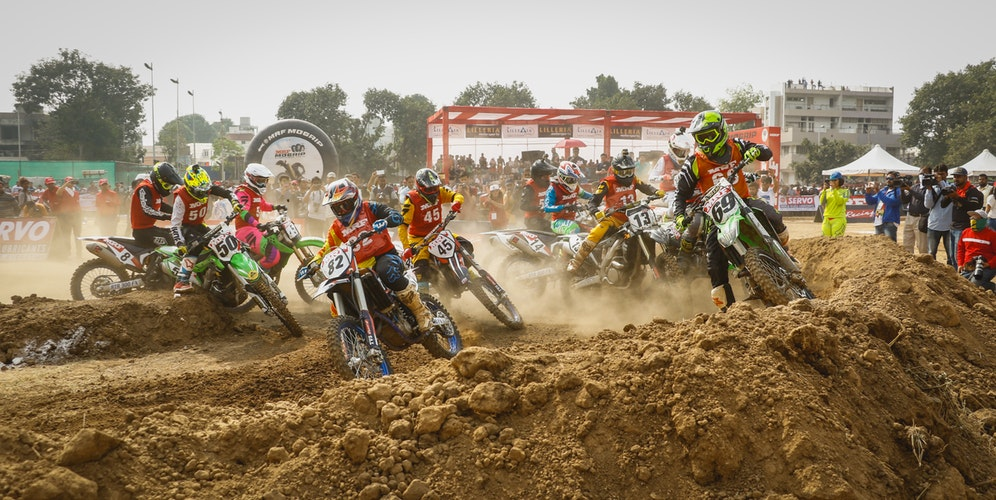helmet: (687, 110, 739, 157), (320, 178, 359, 224), (242, 163, 279, 200), (411, 166, 450, 200), (144, 164, 177, 200), (182, 168, 219, 199)
